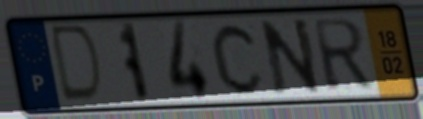1: (115, 19, 154, 106)
4: (166, 18, 213, 104)
C: (209, 20, 268, 98)
D: (50, 22, 106, 106)
N: (256, 15, 324, 98)
R: (309, 16, 376, 94)
